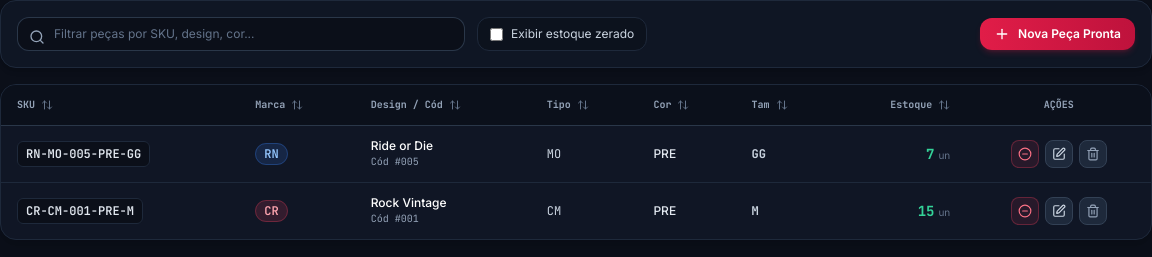
Test: TabelaPecasProntas Component Tests › filters items when typing into search input
The image size is (1152, 257).
Step 1. Type "Ride or Die" into the field with placeholder "Filtrar peças por SKU, design, cor..." → (241, 34), box [17,17,465,51]
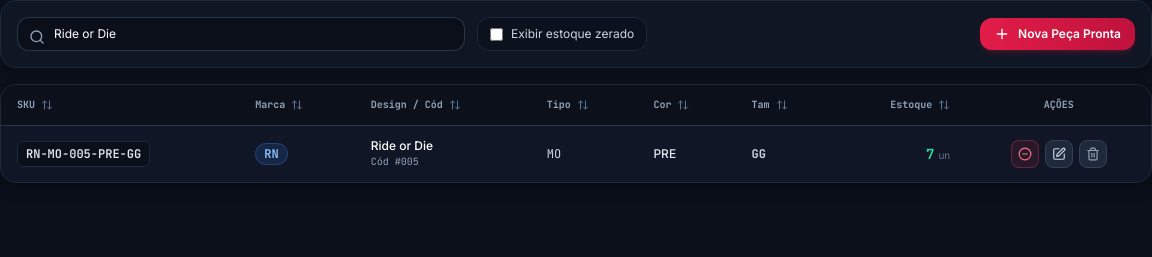
Check: the text "RN-MO-005-PRE-GG" is shown, box [17,141,150,167]
Check: the text "CR-CM-001-PRE-M" is gone
